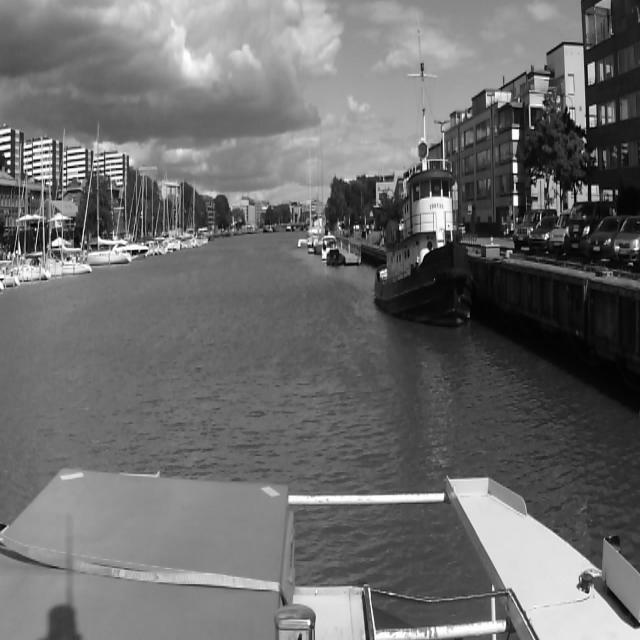ship: (376, 143, 480, 320), (13, 141, 57, 282), (58, 122, 92, 281), (132, 171, 165, 253), (106, 157, 130, 265), (297, 151, 321, 249), (180, 178, 200, 248), (112, 232, 148, 259), (320, 236, 337, 262), (328, 246, 344, 268)
